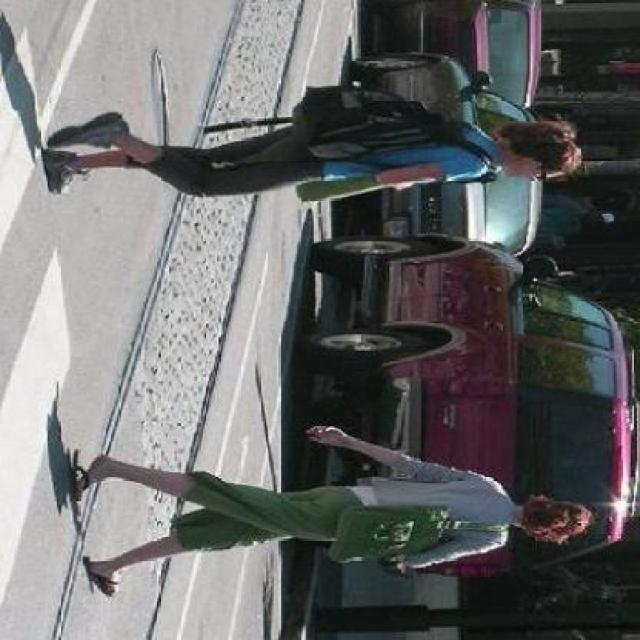Person: (74, 420, 600, 602), (37, 105, 588, 210)
